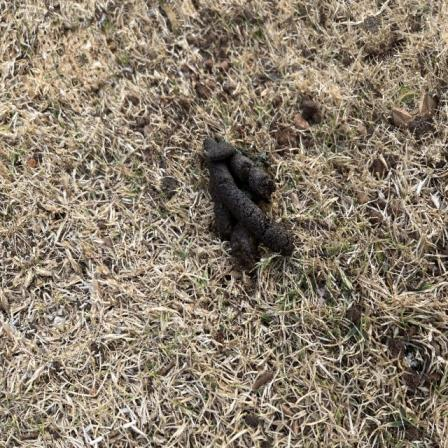dog-poop: (194, 134, 306, 273)
